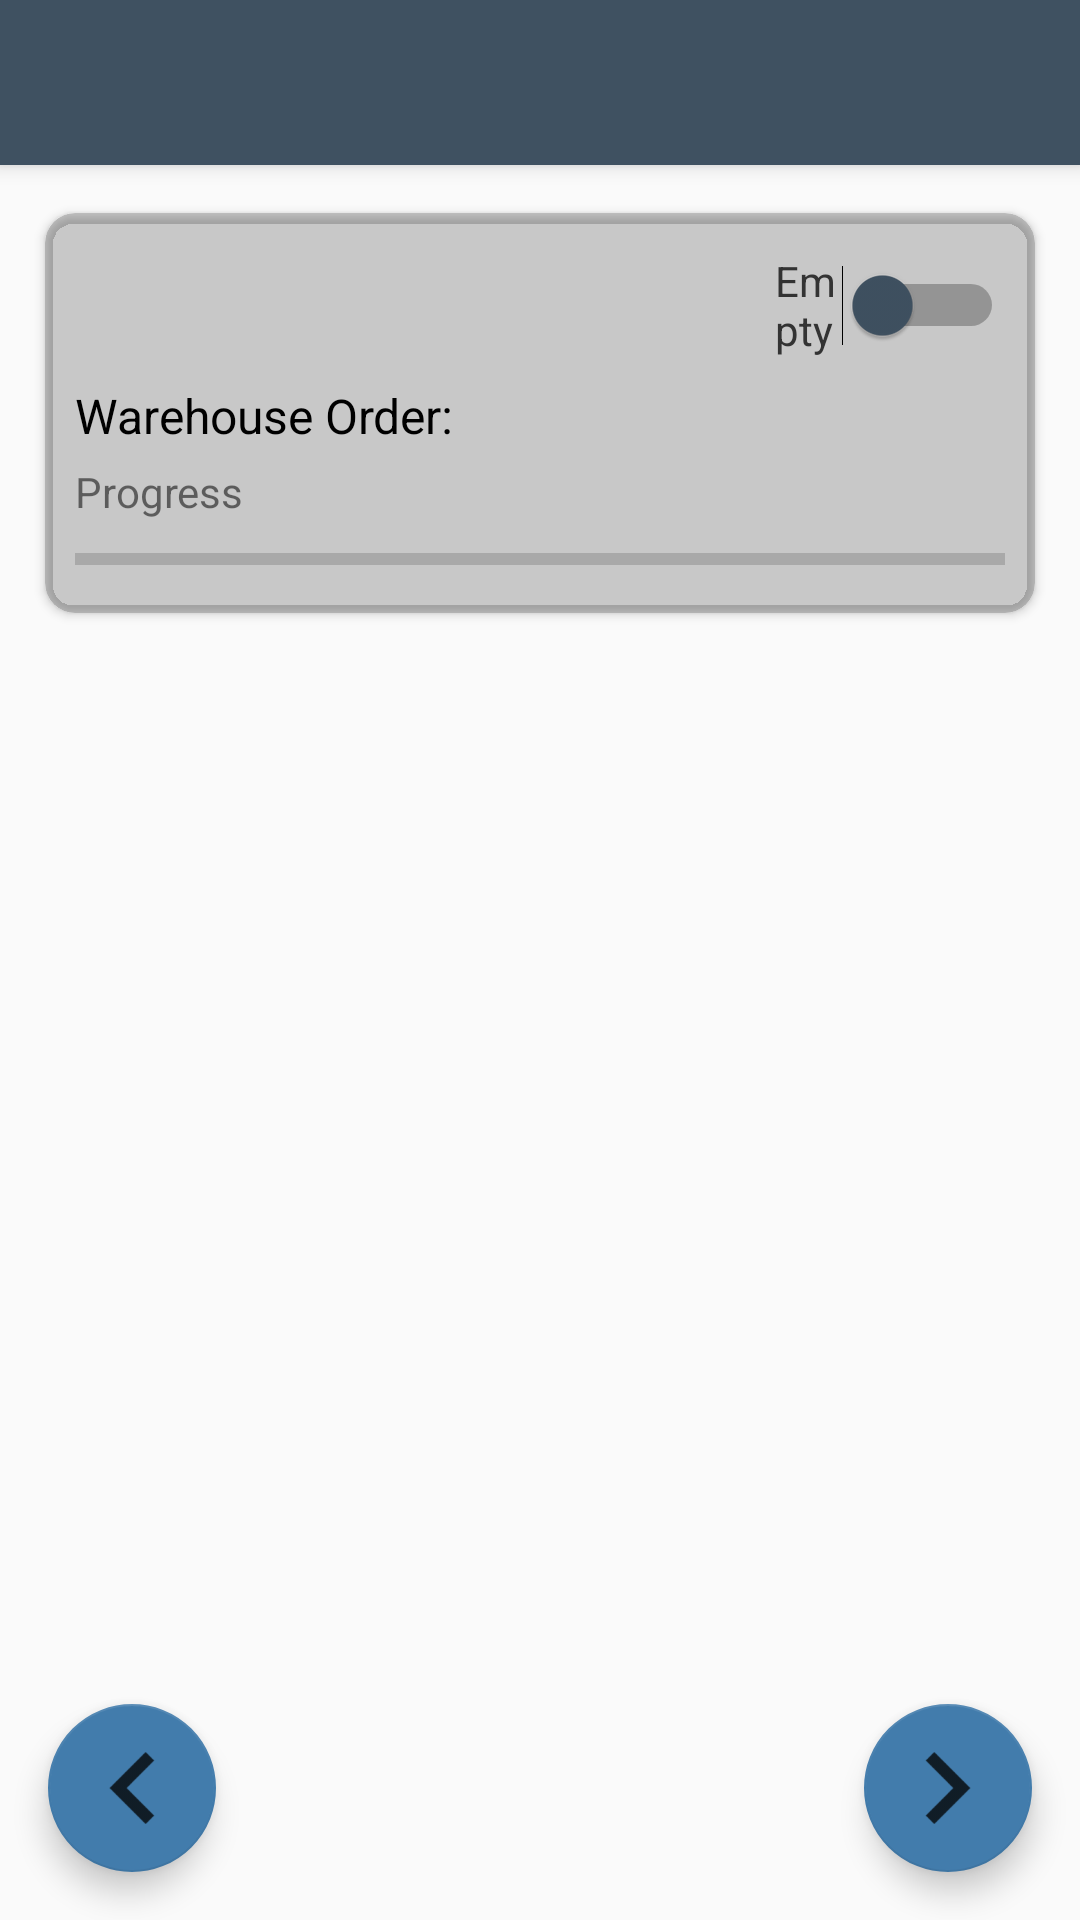

Where icons sit on this 1080px×1920px app screen, as {"x1": x1, "y1": y1, "x2": x2, "y2": y2}:
prev: {"x1": 48, "y1": 1704, "x2": 216, "y2": 1872}
right: {"x1": 864, "y1": 1704, "x2": 1032, "y2": 1872}
